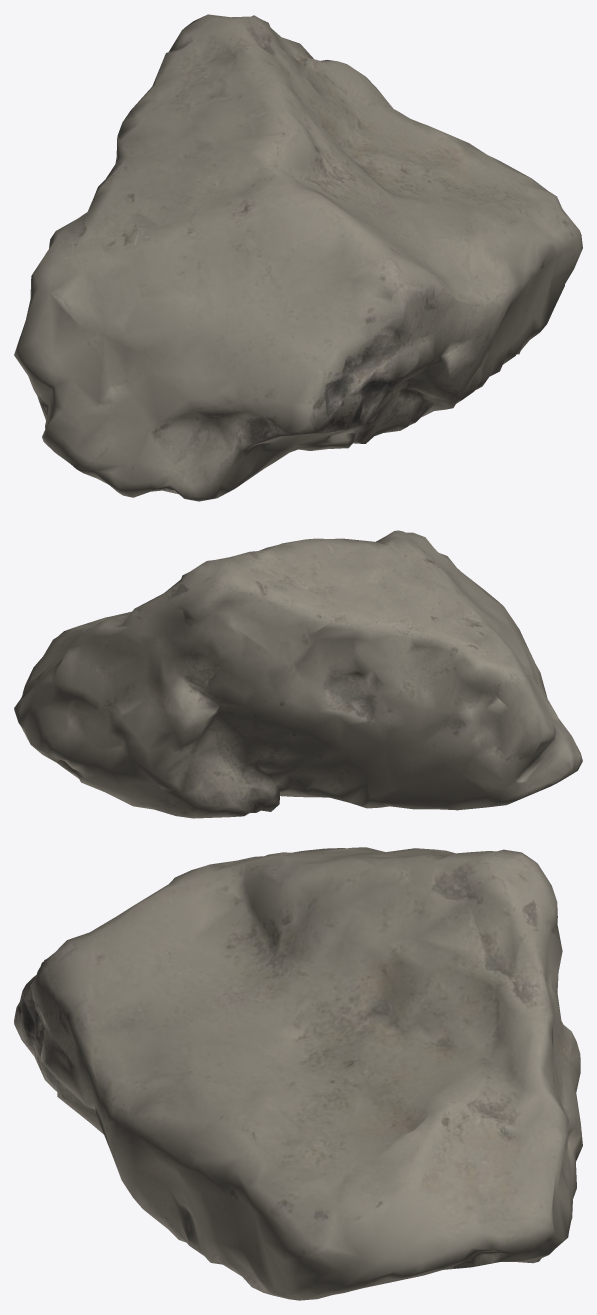
Rendered from moon_rock_03.glb.
The picture shows the model from 3 angles, top to bottom: view 1: azimuth 30°, elevation 25°; view 2: azimuth 150°, elevation 25°; view 3: azimuth 270°, elevation 25°; orthographic projection. The views are drawn at different scales.
Parts seen in each view (by area): view 1: moon_rock_03_LOD0; view 2: moon_rock_03_LOD0; view 3: moon_rock_03_LOD0.
Boxes of the visible parts, bbox=[...] form: moon_rock_03_LOD0: bbox=[14, 14, 582, 501]; moon_rock_03_LOD0: bbox=[14, 530, 582, 818]; moon_rock_03_LOD0: bbox=[14, 847, 582, 1300].
Size of the model in its own units: 0.112 by 0.0582 by 0.0861.
Materials: 1 (1 with a texture image).
